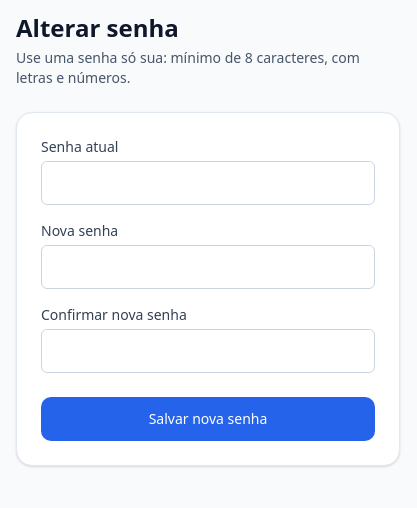
it: ChangePasswordPage › política de senha (RN-04): recusa senha curta, sem número e igual ao usuário
Type "temp123" into the password field labelled "Senha atual".
click(208, 183); type("temp123")  # box [41, 161, 375, 205]
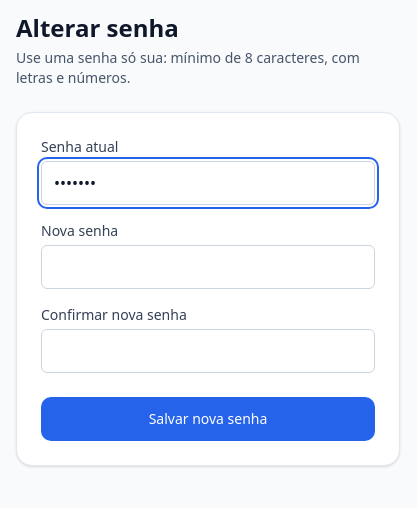
Type "curta1" into the password field labelled "Nova senha".
click(208, 267); type("curta1")  # box [41, 245, 375, 289]
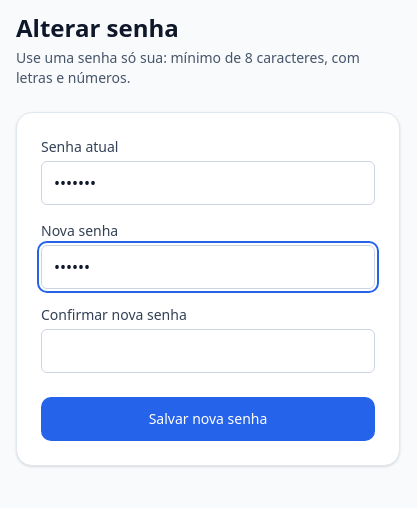
Type "curta1" into the password field labelled "Confirmar nova senha".
click(208, 351); type("curta1")  # box [41, 329, 375, 373]
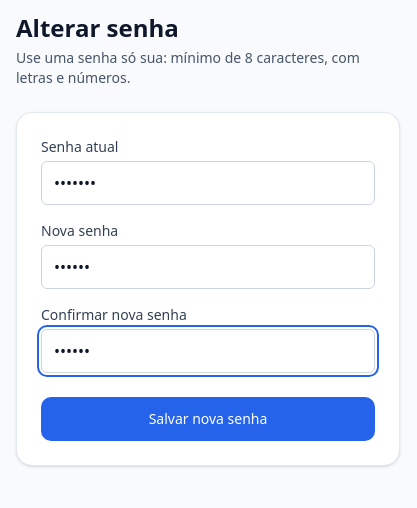
Click the button "Salvar nova senha".
click(208, 419)  # box [41, 397, 375, 441]
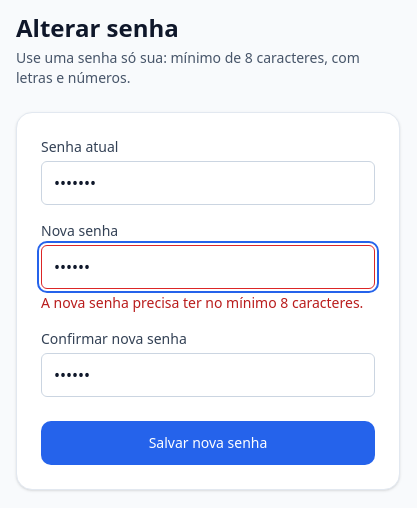
Result: the text "A nova senha precisa ter no mínimo 8 caracteres." is shown at [41, 293, 375, 313]
